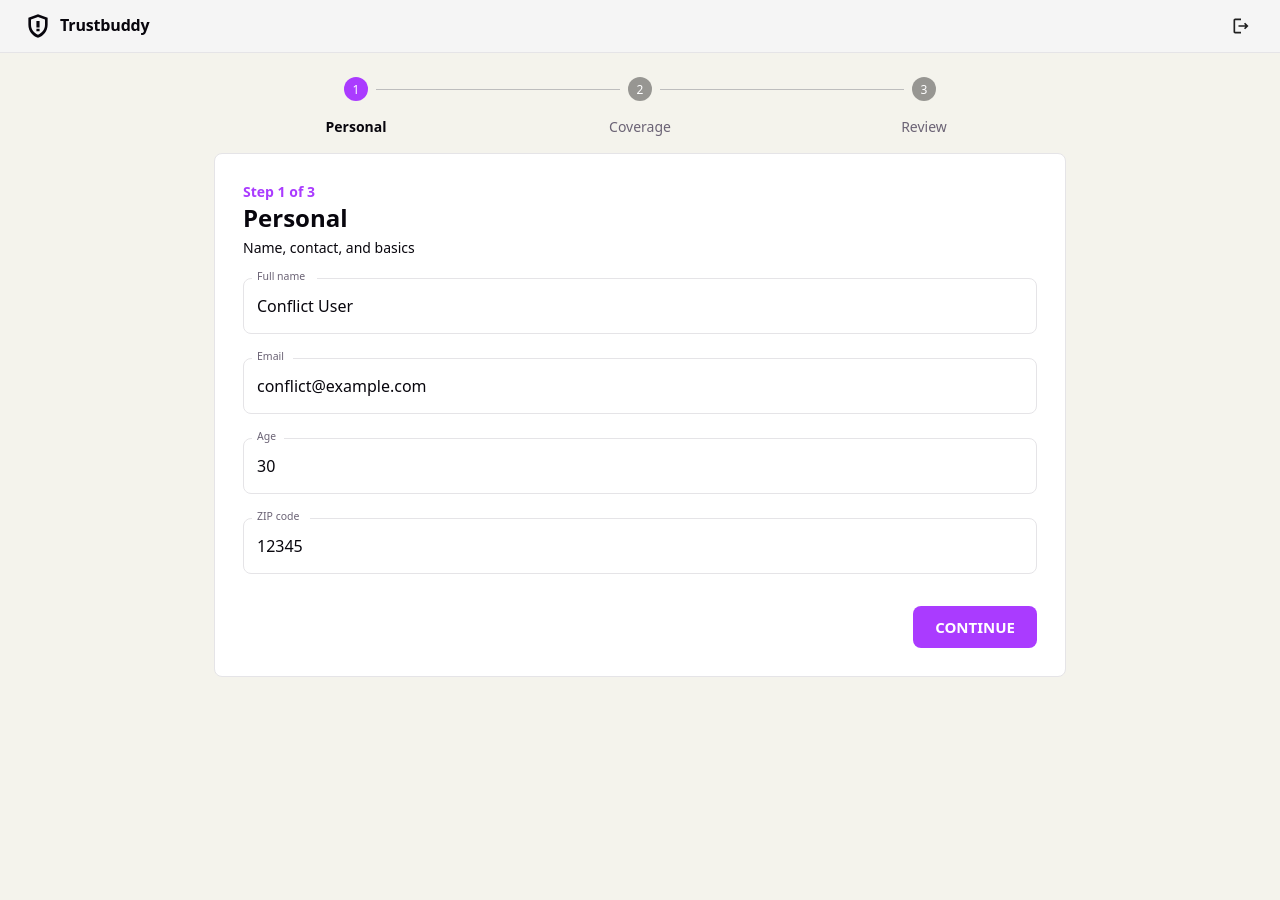
Test: wizard routes › given_409_when_personalSaved_then_showsAlertAndStays
Expected: the field labelled "Full name" holds "Conflict User", [243, 278, 1037, 334]
Click the button "Continue" at (975, 627), box [913, 606, 1037, 648]
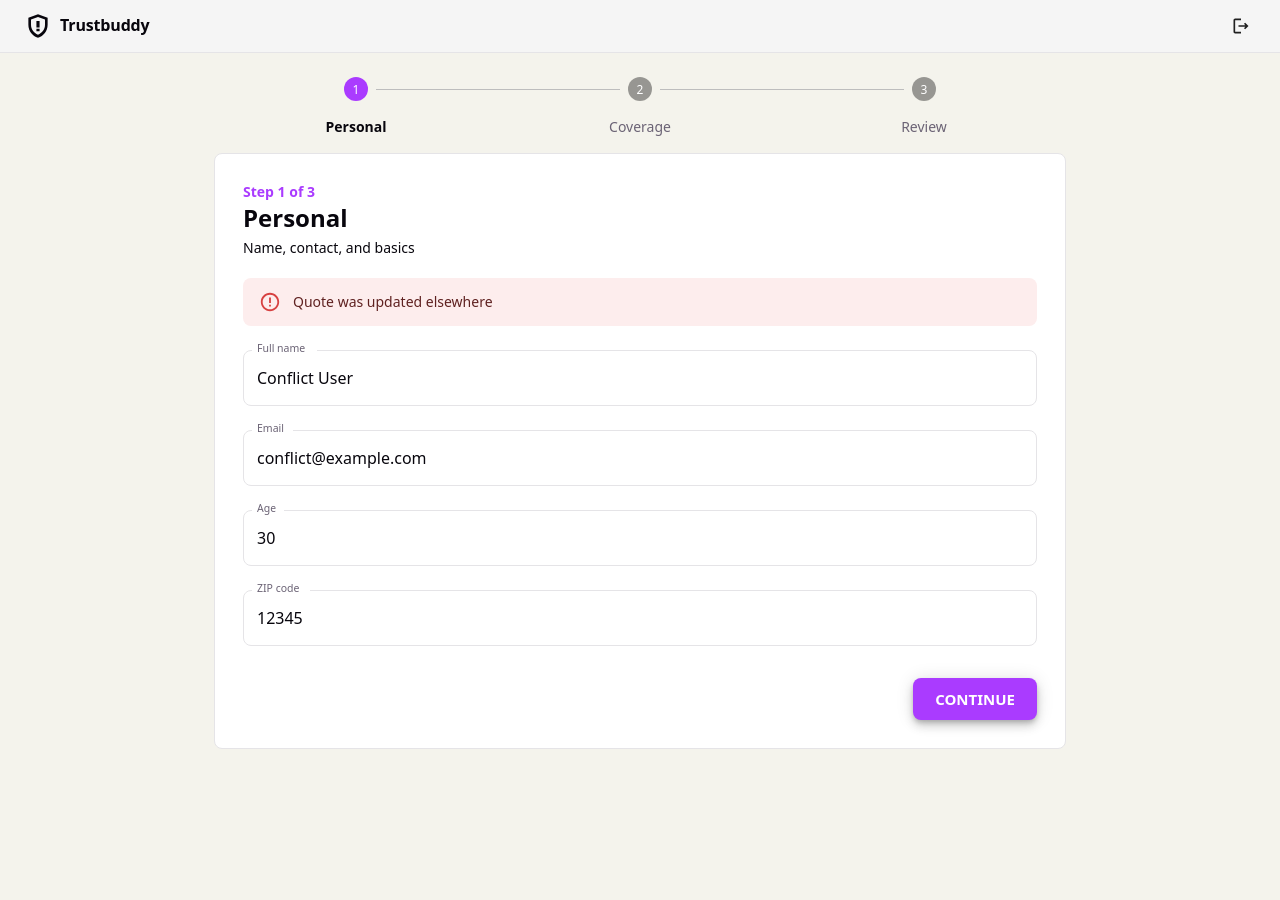
Expected: the heading "Personal" is shown, [243, 201, 348, 234]
Expected: the message reads "Quote was updated elsewhere", [293, 292, 493, 311]
